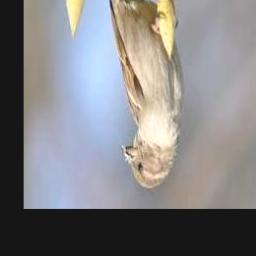Sparrow: (103, 0, 184, 189)
